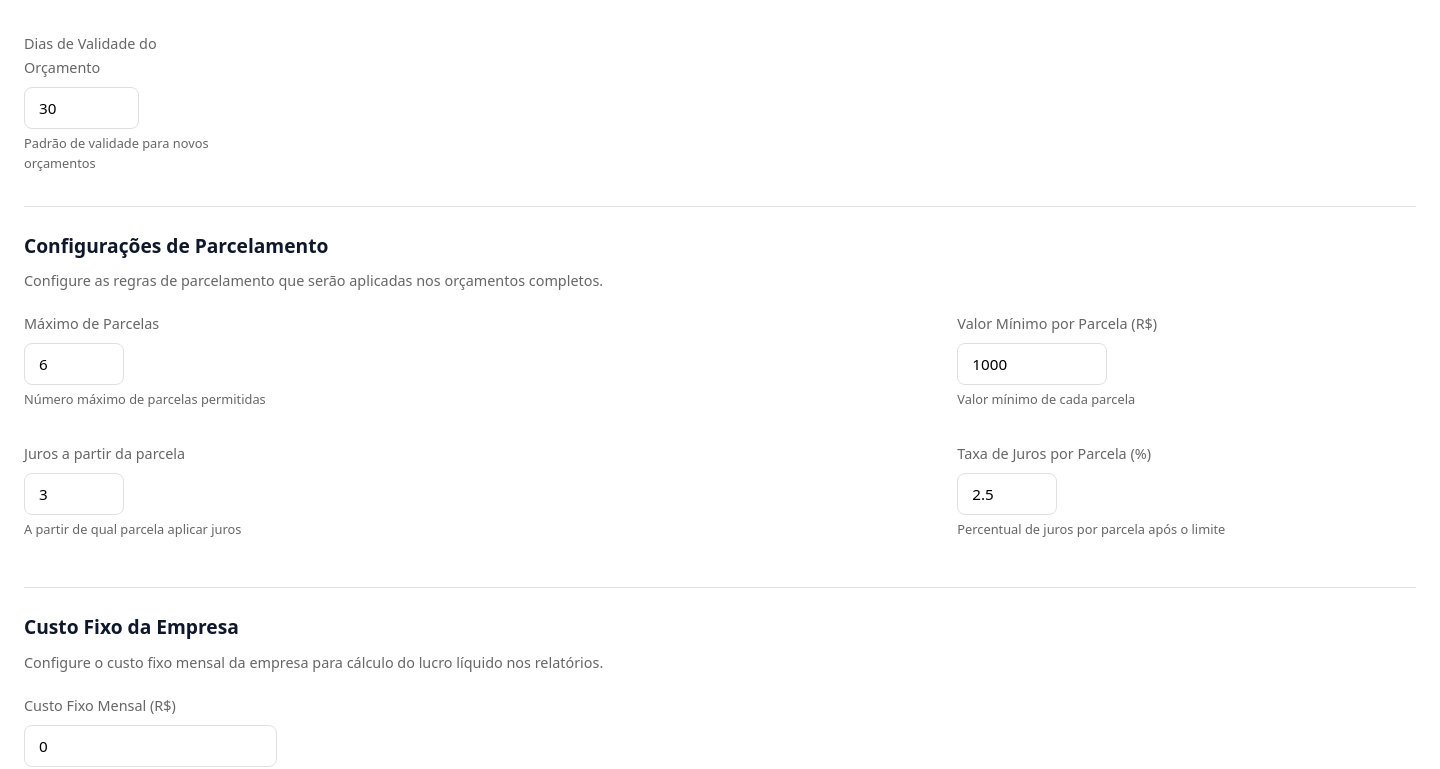
Test: EmpresaTab › Configurações de Parcelamento › deve marcar form como dirty ao alterar parcelamento
(page scrolled)
Replace the text in the 2nd number field with "8" at (74, 364), box [24,343,124,385]
(page scrolled)
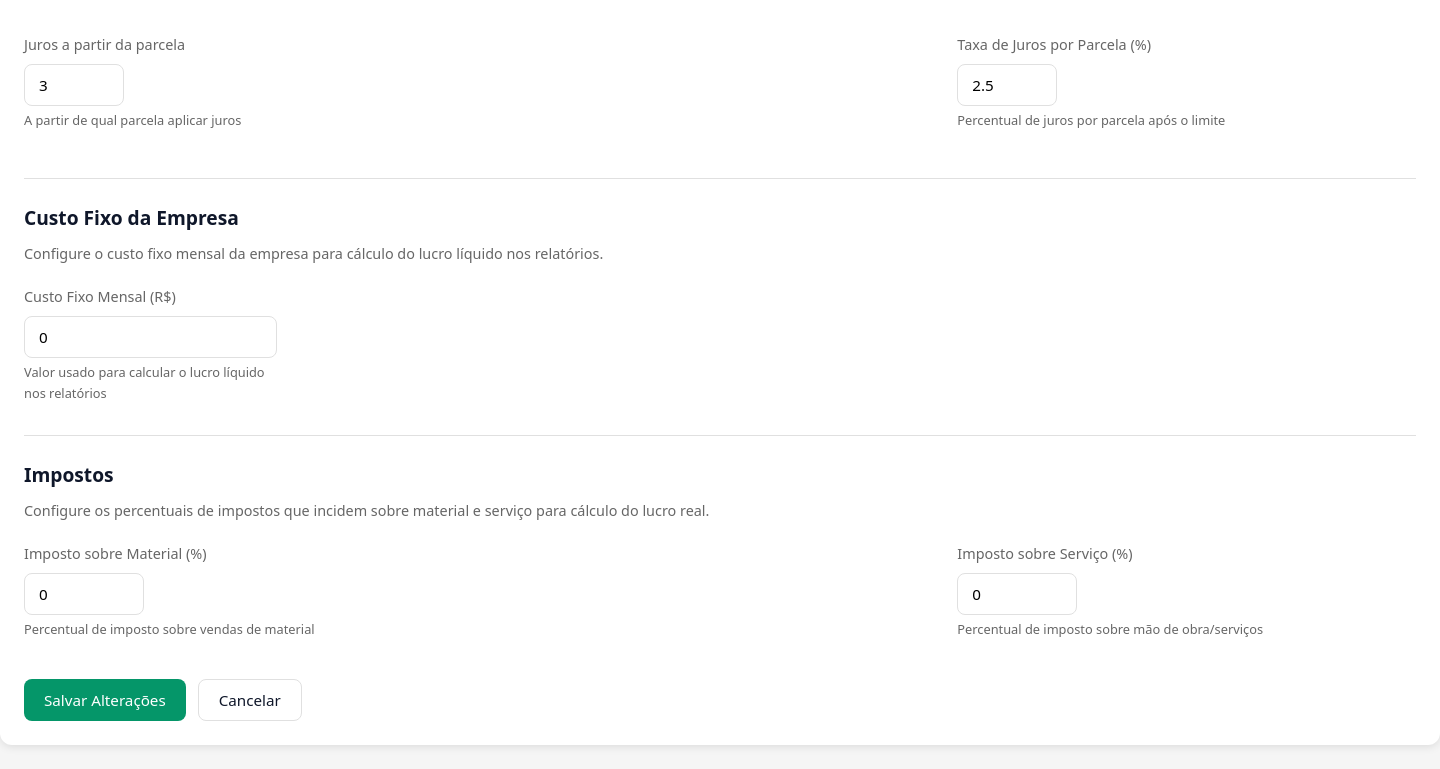
Expected: the button "Salvar Alterações" is enabled, [24,679,186,721]
